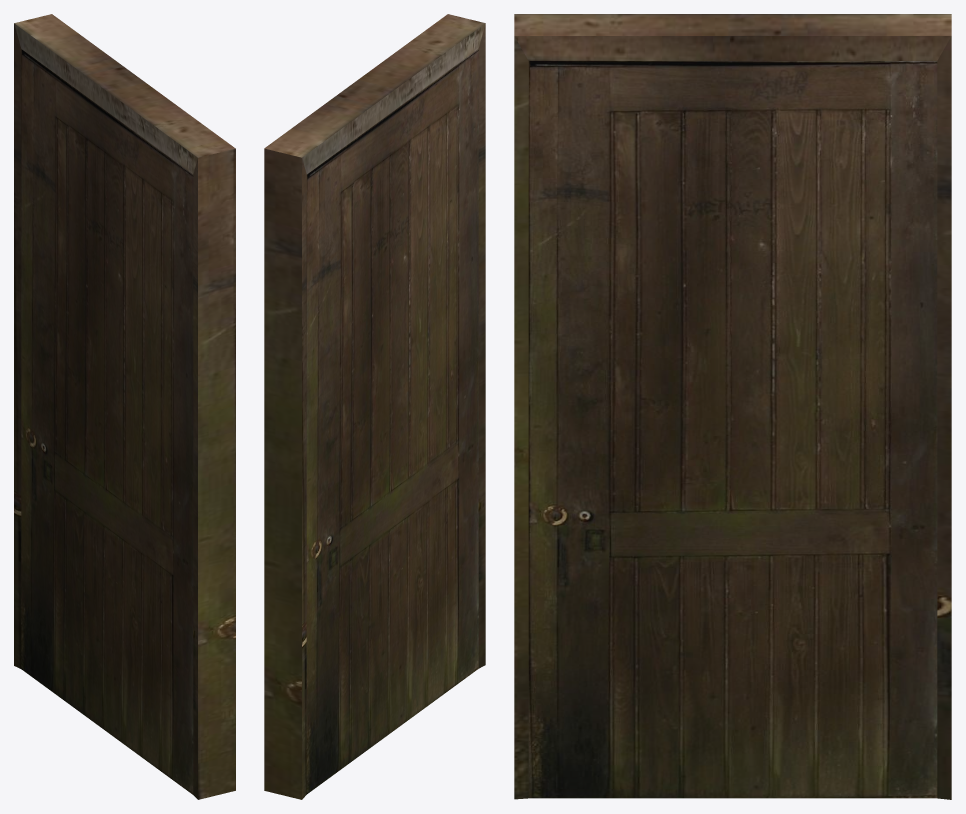
File: dor.fbx
3 renders of one model, left to right at view 1: azimuth 30°, elevation 25°; view 2: azimuth 150°, elevation 25°; view 3: azimuth 270°, elevation 25°, orthographic. The views are drawn at different scales.
Visible parts, largest first — view 1: Cube.004; view 2: Cube.004; view 3: Cube.004.
Part boxes in pixels (left/top/right/bottom): Cube.004: left=14, top=14, right=235, bottom=799; Cube.004: left=264, top=14, right=485, bottom=799; Cube.004: left=514, top=14, right=951, bottom=799.
Size of the model in its own units: 25.44 by 413 by 214.
1 material, 1 textured.
